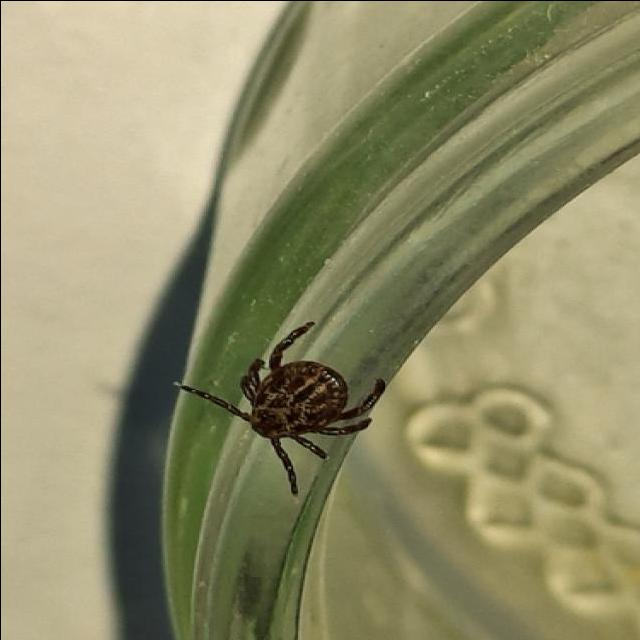Dermacentor Reticulatus-M: (172, 320, 386, 494)
